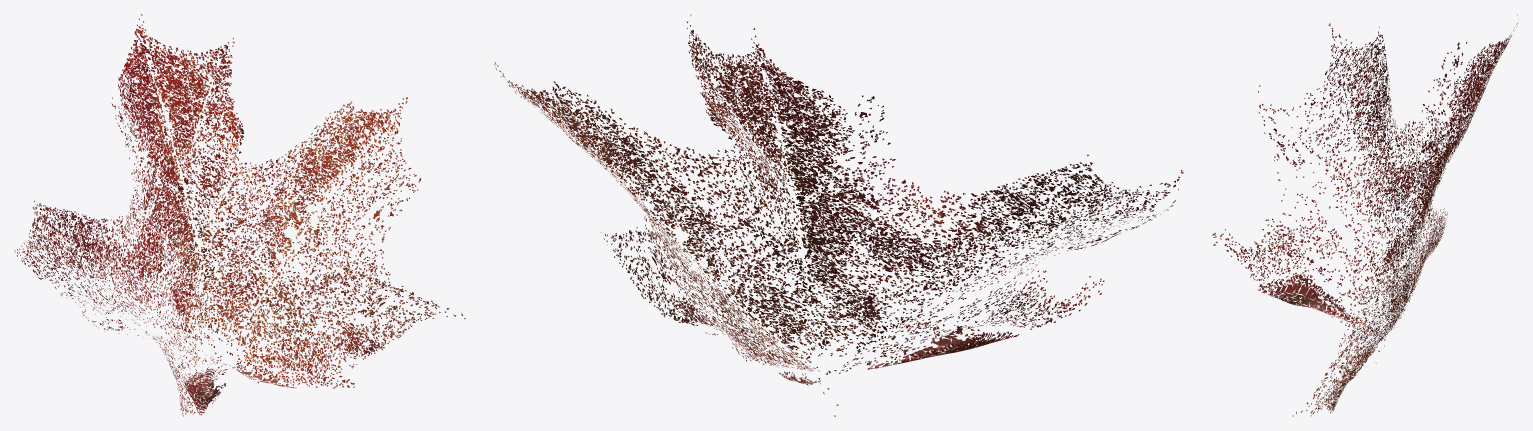
File: leaf1.glb
3 views of the same model, side by side, from view 1: azimuth 30°, elevation 25°; view 2: azimuth 150°, elevation 25°; view 3: azimuth 270°, elevation 25° (orthographic). The views are drawn at different scales.
Parts seen in each view (by area): view 1: Maple_leaf_Maple_leaf_0; view 2: Maple_leaf_Maple_leaf_0; view 3: Maple_leaf_Maple_leaf_0.
Boxes of the visible parts, x1,y1,x2,y2 form: Maple_leaf_Maple_leaf_0: (14,14,465,416); Maple_leaf_Maple_leaf_0: (494,14,1183,416); Maple_leaf_Maple_leaf_0: (1212,14,1517,416).
Bounding box in the file's own units: 4.84 × 3.46 × 2.78.
Materials: 1 (1 with a texture image).
